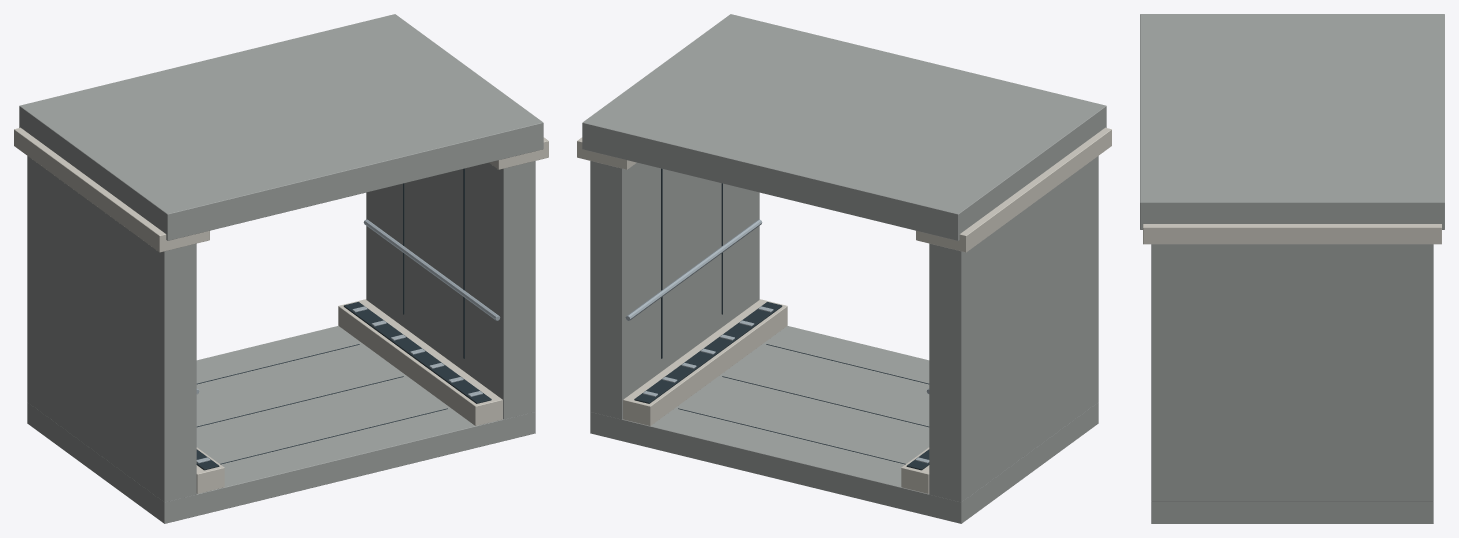
The model's file is b13_pedestrian_underpass_box_section.glb.
The picture shows the model from 3 angles, left to right: view 1: azimuth 30°, elevation 25°; view 2: azimuth 150°, elevation 25°; view 3: azimuth 270°, elevation 25°; orthographic projection. The views are drawn at different scales.
Visible parts, largest first — view 1: b13_pedestrian_underpass_box_section; view 2: b13_pedestrian_underpass_box_section; view 3: b13_pedestrian_underpass_box_section.
Part boxes in pixels (x1,y1,x2,y2): b13_pedestrian_underpass_box_section: [14, 14, 548, 523]; b13_pedestrian_underpass_box_section: [577, 14, 1111, 523]; b13_pedestrian_underpass_box_section: [1140, 14, 1444, 523].
Size of the model in its own units: 4.09 by 3.15 by 2.7.
